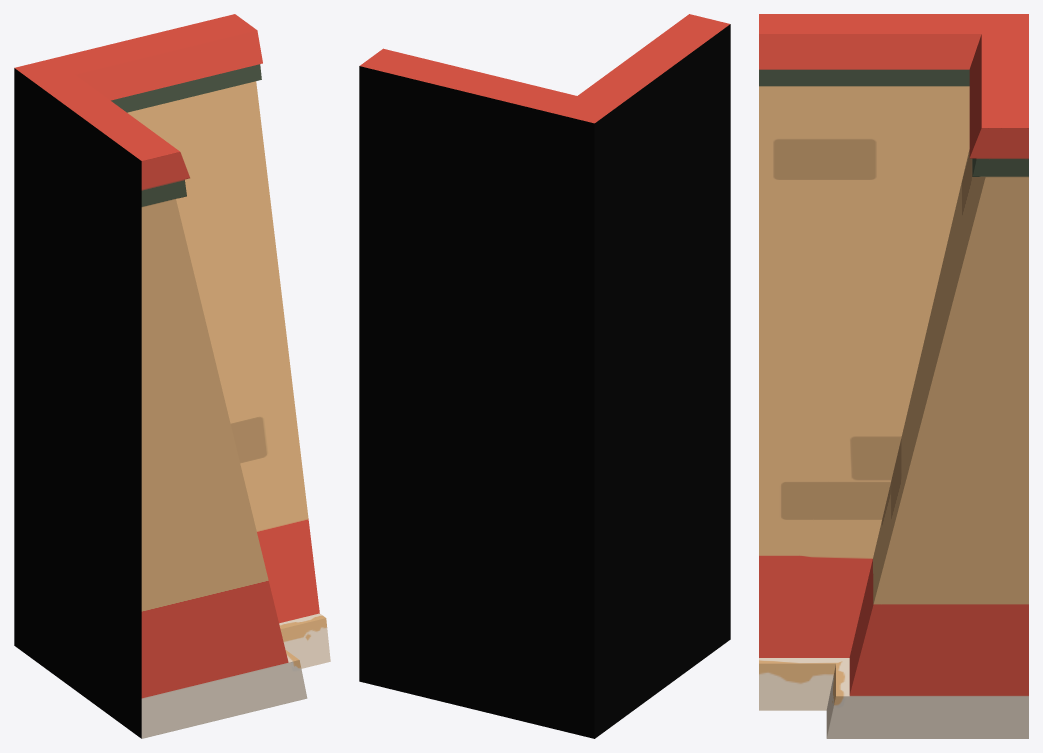
File: wallInnerCorner.fbx
The picture shows the model from 3 angles, left to right: view 1: azimuth 30°, elevation 25°; view 2: azimuth 150°, elevation 25°; view 3: azimuth 270°, elevation 25°; orthographic projection. The views are drawn at different scales.
Parts seen in each view (by area): view 1: WallInnerCorner; view 2: WallInnerCorner; view 3: WallInnerCorner.
Boxes of the visible parts, x1,y1,x2,y2 form: WallInnerCorner: (14, 14, 330, 738); WallInnerCorner: (359, 14, 730, 738); WallInnerCorner: (759, 14, 1028, 738).
Bounding box in the file's own units: 2 × 5 × 2.
